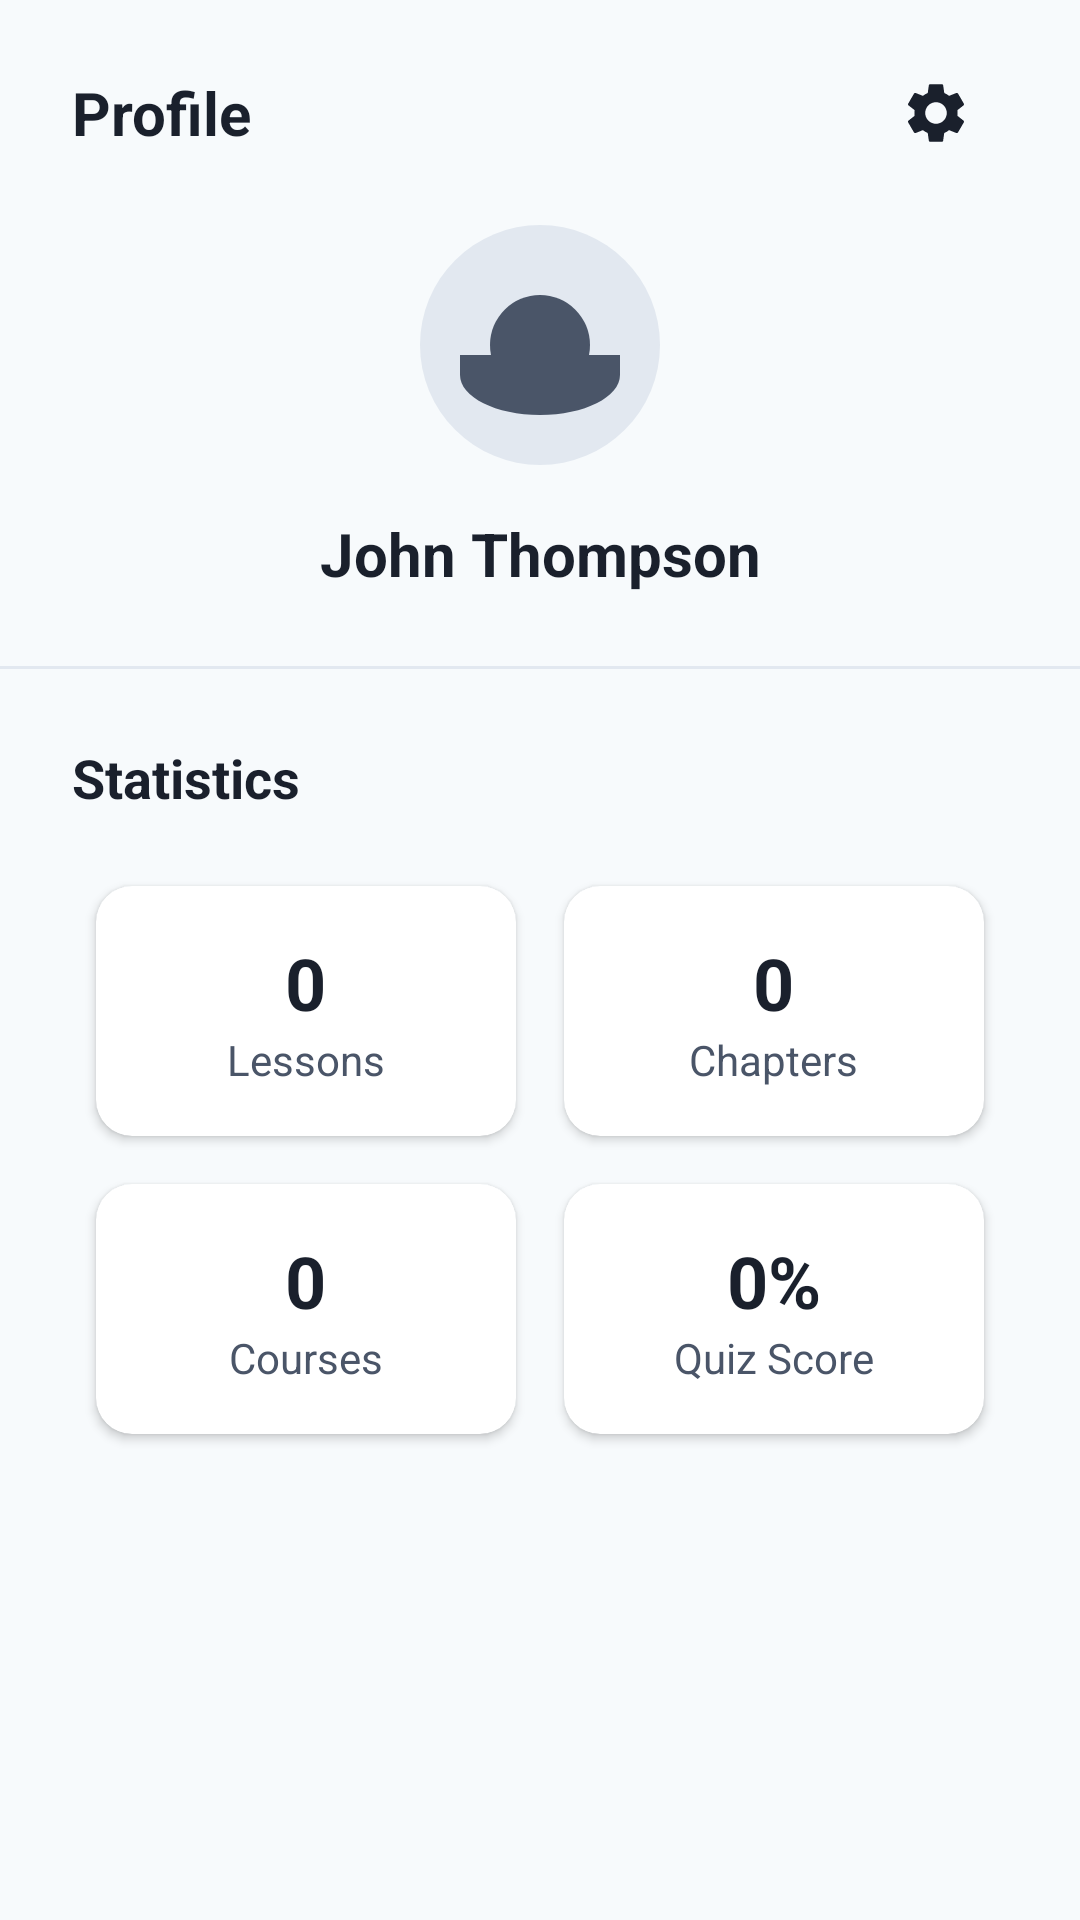

Locate icon controls on the screen. Image size 1080x1920, boxes as (left=x1, top=y1, right=x2, bottom=y2).
Settings: (left=908, top=84, right=964, bottom=142)
